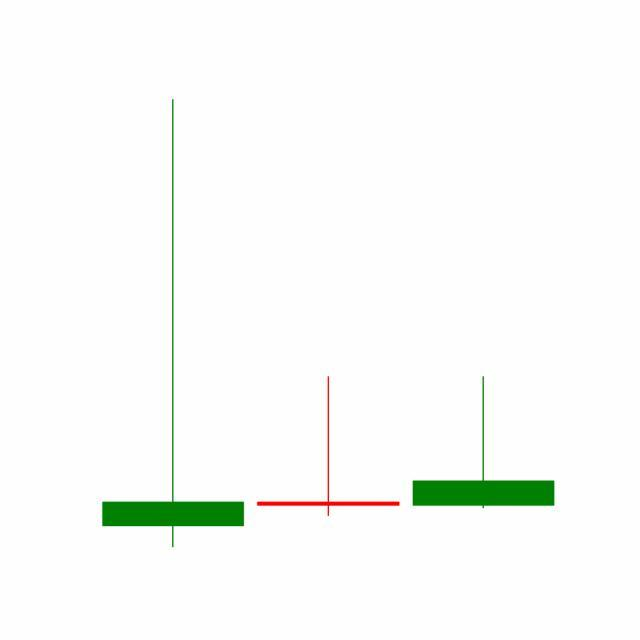Spinning Top: (250, 375, 407, 519)
